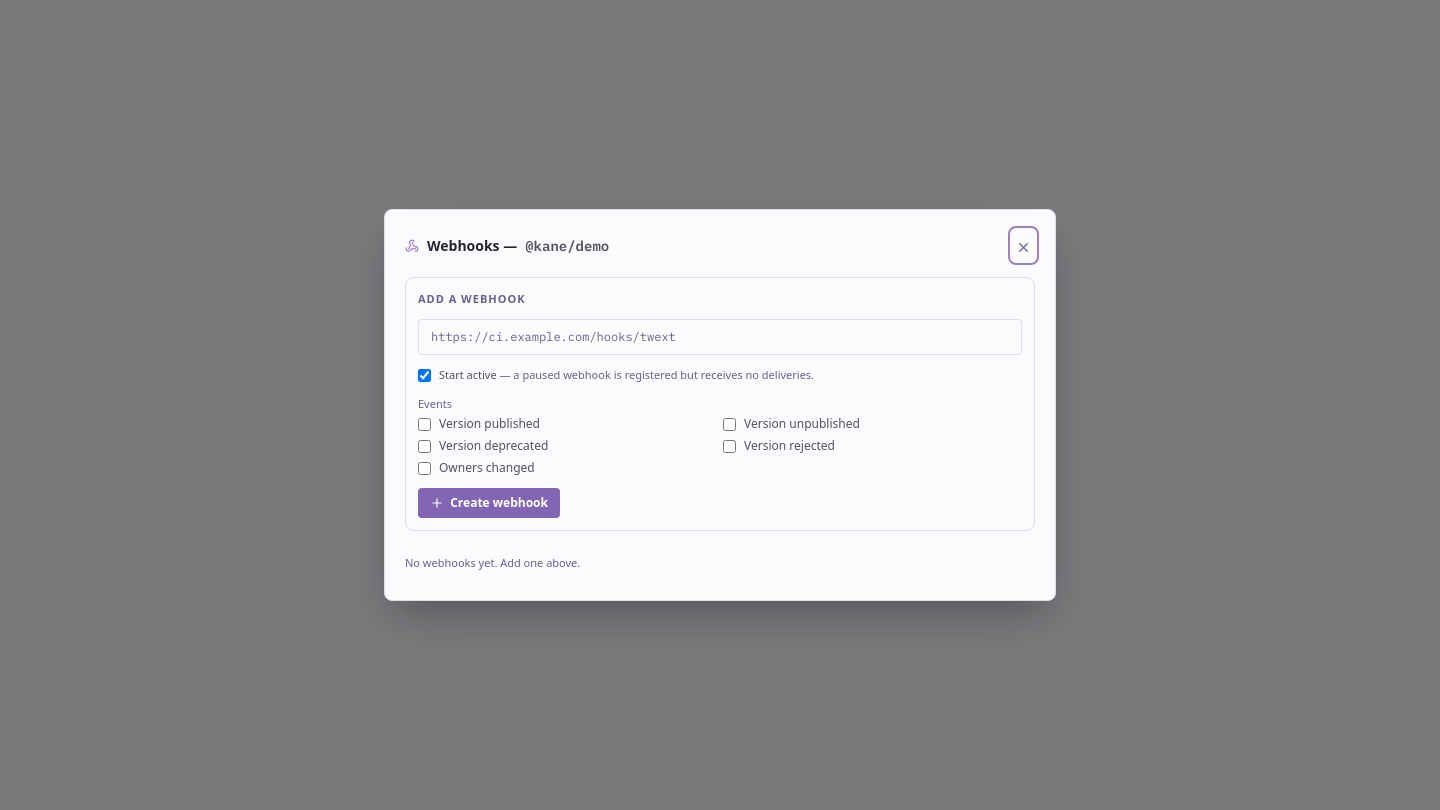
WebhookPanel › creates a webhook with the selected events and reveals the one-time secret
expect the text "No webhooks yet. Add one above." is shown: met, box [405,555,580,570]
Type "https://ci.example.com/hook" into the field named "Webhook URL".
click(720, 337); type("https://ci.example.com/hook")  # box [418,319,1022,355]
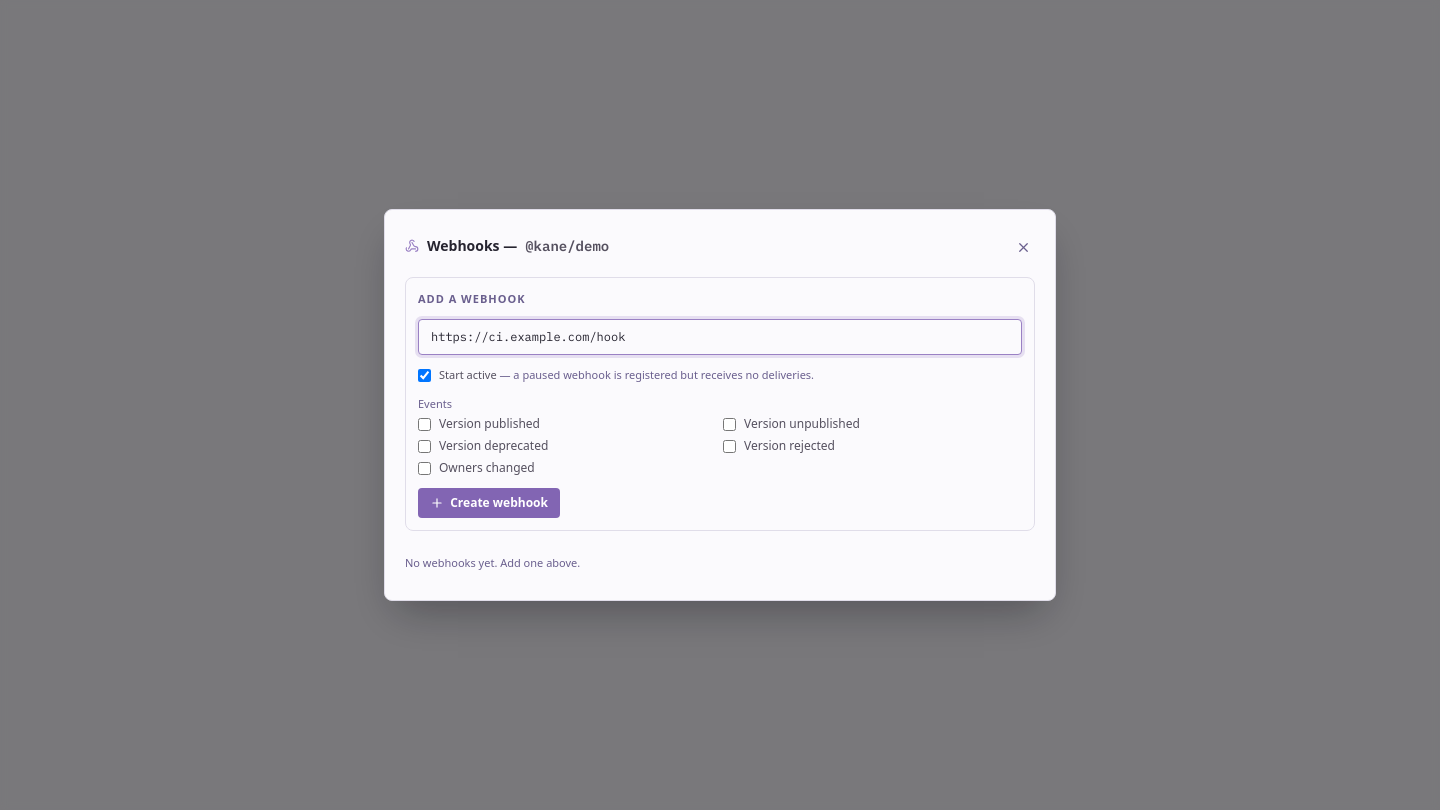
Click the checkbox labelled "Version published".
click(424, 424)  # box [418,418,431,430]
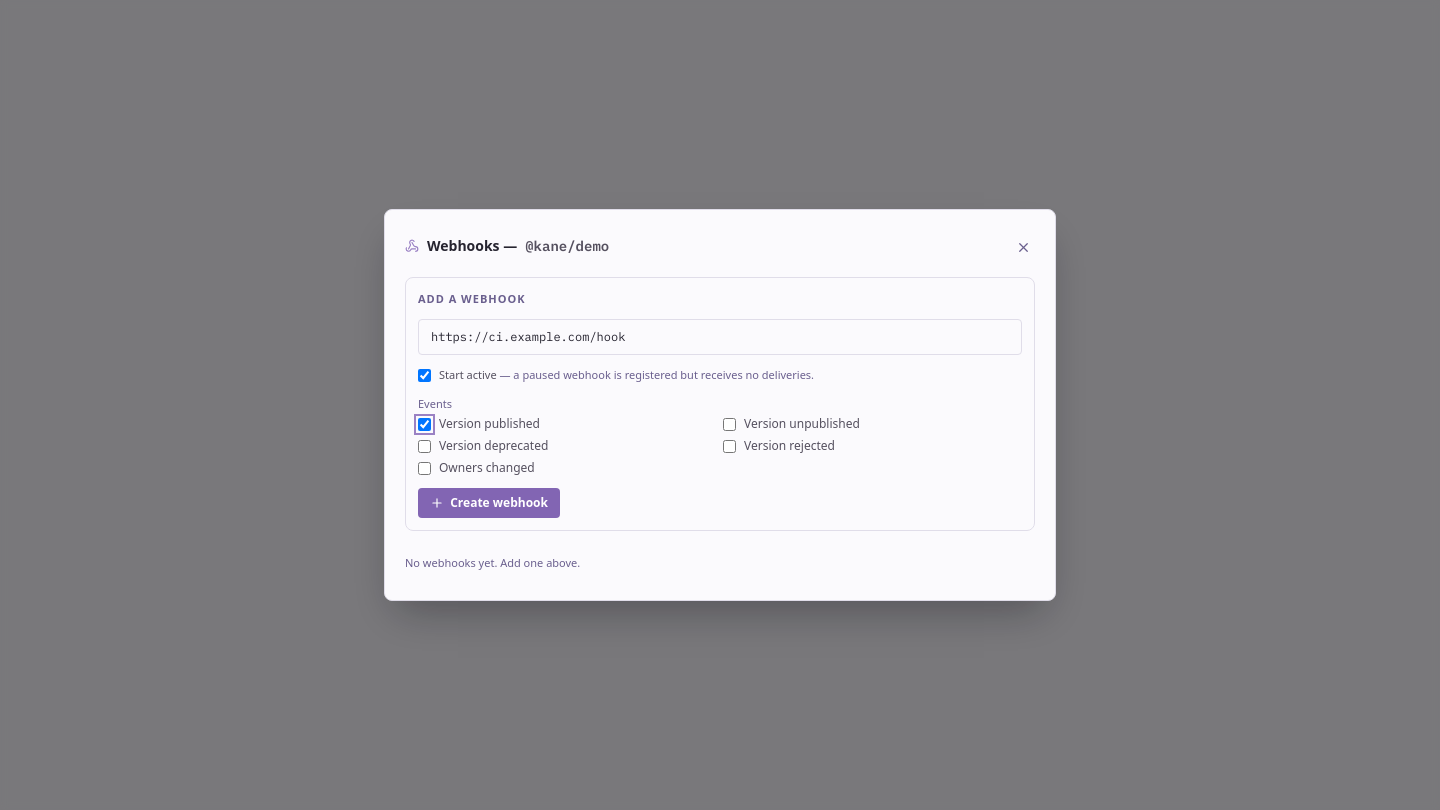
Click the checkbox labelled "Owners changed".
click(424, 468)  # box [418,462,431,474]
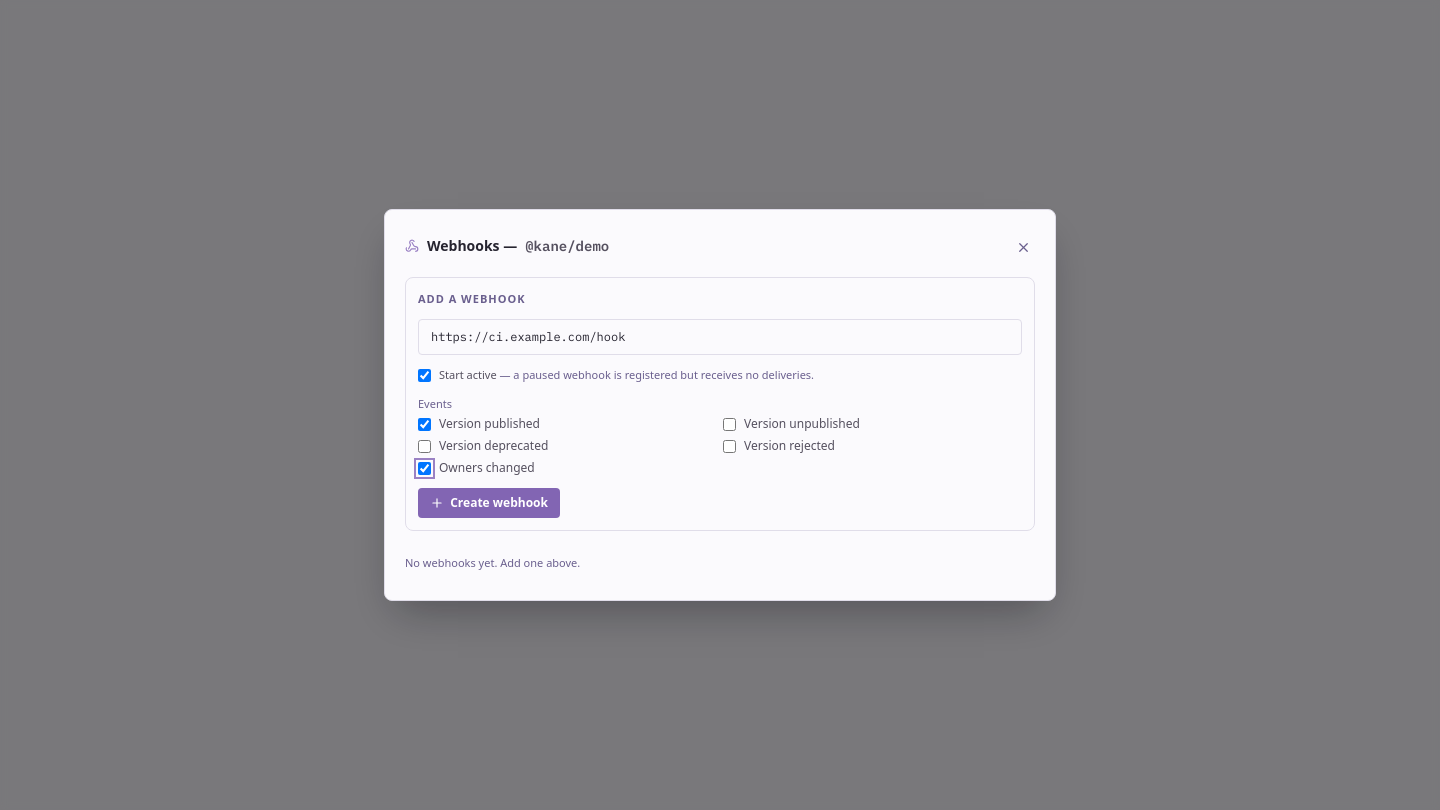
Click the button "Create webhook".
click(489, 503)  # box [418,488,560,518]
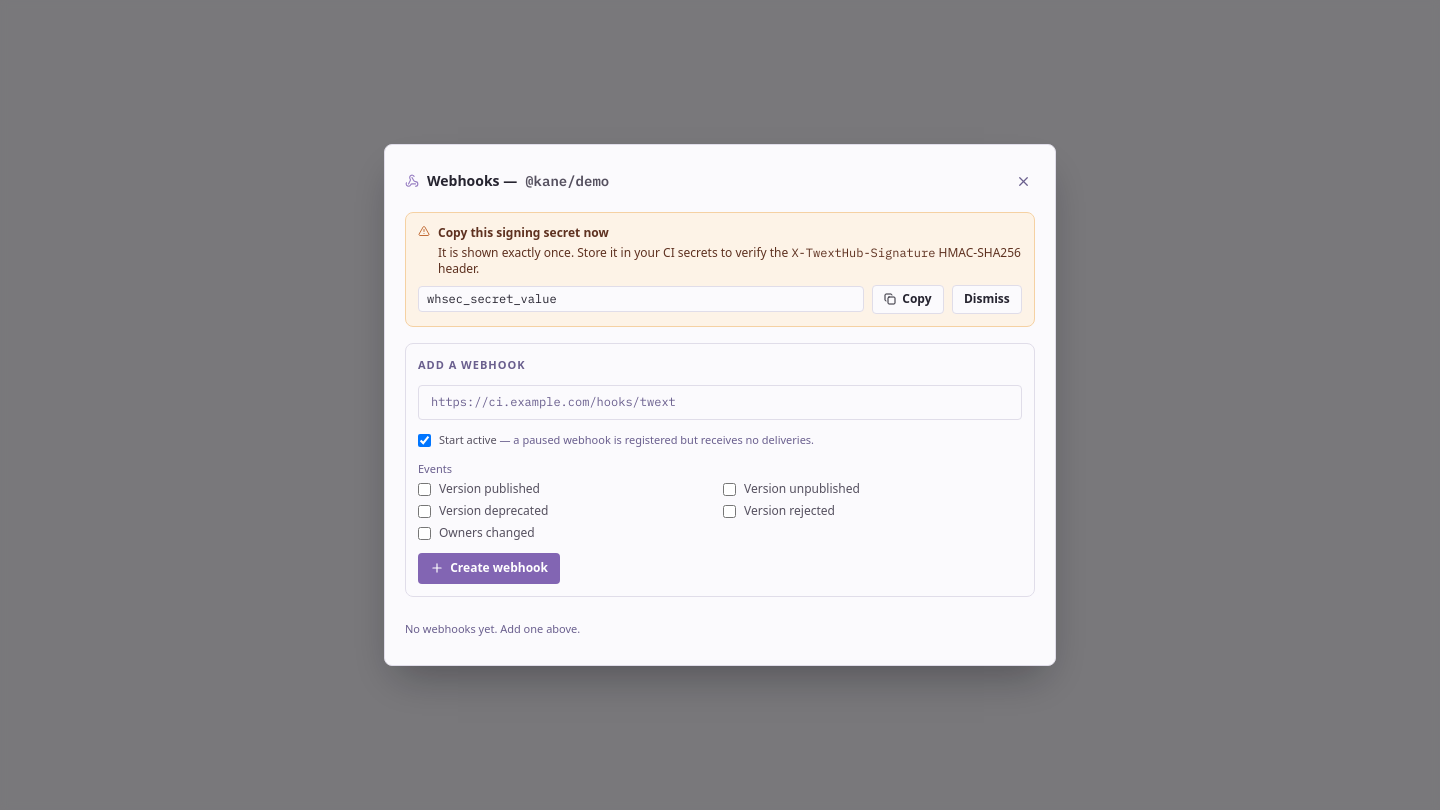
expect the text "whsec_secret_value" is shown: met, box [418,286,864,312]
expect the text "shown exactly once" is shown: met, box [438,244,788,261]
